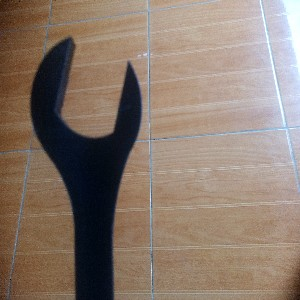spanner: (30, 34, 143, 300)
